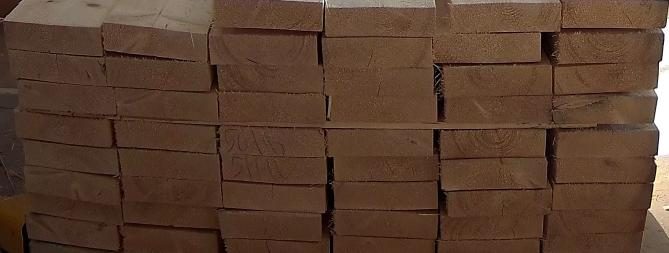Wood-Plank: (105, 21, 207, 61), (553, 28, 665, 64), (326, 0, 436, 36), (105, 55, 214, 90), (442, 62, 553, 96), (554, 123, 659, 158), (17, 79, 116, 116), (24, 166, 119, 204), (114, 87, 216, 122), (554, 90, 659, 124), (15, 110, 113, 146), (5, 19, 100, 56), (114, 118, 216, 152), (448, 2, 563, 32), (26, 213, 119, 250), (434, 32, 542, 63), (445, 186, 553, 217), (210, 34, 318, 65), (7, 50, 105, 84), (442, 159, 548, 190), (323, 36, 432, 66), (222, 181, 327, 212), (23, 140, 118, 174), (215, 0, 322, 30), (219, 92, 326, 122), (555, 64, 660, 94), (220, 126, 325, 156), (222, 154, 326, 184), (440, 129, 547, 158), (328, 94, 438, 122), (219, 210, 321, 240), (334, 181, 439, 210), (118, 150, 219, 180), (325, 68, 435, 95), (444, 95, 553, 122), (563, 0, 668, 28), (335, 212, 439, 240), (217, 65, 323, 92), (552, 156, 658, 183), (327, 129, 433, 156), (121, 224, 218, 253), (122, 178, 221, 206), (30, 194, 122, 224), (546, 210, 649, 236), (554, 184, 655, 210), (334, 156, 439, 181), (442, 215, 545, 240), (123, 202, 219, 228), (543, 231, 644, 253), (224, 236, 327, 253), (334, 236, 435, 253), (438, 238, 540, 253)
